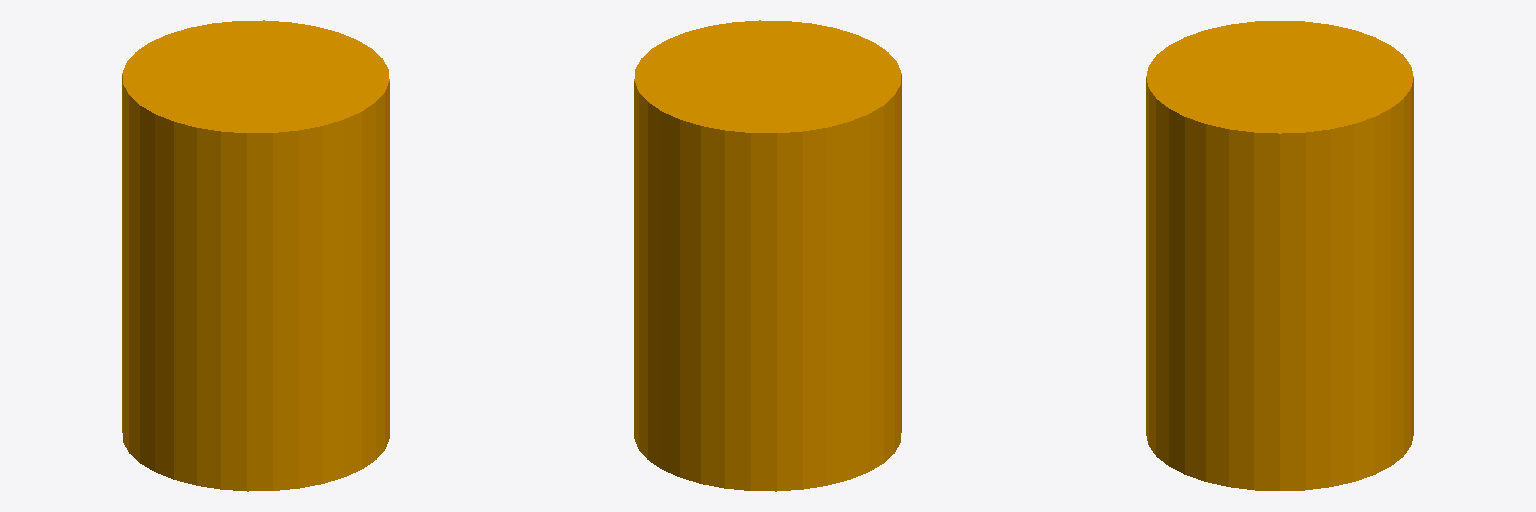
robot.urdf — roblog-maisels-barrel-simple:
<?xml version="1.0" ?>
<!-- =================================================================================== -->
<!-- |    This document was autogenerated by xacro from model.urdf.xml                 | -->
<!-- |    EDITING THIS FILE BY HAND IS NOT RECOMMENDED                                 | -->
<!-- =================================================================================== -->
<robot name="roblog-maisels-barrel-simple" xmlns:controller="http://playerstage.sourceforge.net/gazebo/xmlschema/#controller" xmlns:interface="http://playerstage.sourceforge.net/gazebo/xmlschema/#interface" xmlns:sensor="http://playerstage.sourceforge.net/gazebo/xmlschema/#sensor" xmlns:xacro="http://www.ros.org/wiki/xacro">
  <!-- Little helper macro to define the inertia matrix needed for links. -->
  <!-- Length is along the y-axis. -->
  <!-- Little helper macro to define the inertia matrix needed for links. -->
  <!-- Length is along the y-axis. -->
  <link name="link">
    <visual>
      <origin rpy="0 0 0" xyz="0 0 0"/>
      <geometry>
        <cylinder length="0.242" radius="0.082"/>
      </geometry>
      <material name="Gazebo/Orange"/>
    </visual>
    <collision>
      <origin rpy="0 0 0" xyz="0 0 0"/>
      <contact_coefficients mu="1.0"/>
      <geometry>
        <cylinder length="0.242" radius="0.082"/>
      </geometry>
      <surface>
        <friction>
          <ode>
            <mu>1</mu>
            <mu2>1</mu2>
          </ode>
        </friction>
      </surface>
    </collision>
    <inertial>
      <mass value="0.54"/>
      <inertia ixx="0.00354312" ixy="0" ixz="0" iyy="0.00354312" iyz="0" izz="0.00181548"/>
    </inertial>
  </link>
  <gazebo reference="link">
    <material>Gazebo/Orange</material>
    <dampingFactor>0.005</dampingFactor>
  </gazebo>
</robot>

--- Facts derived from the render (not from the file) ---
The picture shows the robot from 3 angles, left to right: view 1: azimuth 30°, elevation 25°; view 2: azimuth 150°, elevation 25°; view 3: azimuth 270°, elevation 25°; orthographic projection.
Model roblog-maisels-barrel-simple with 1 links and 0 joints (none), rooted at link, posed all joints at 0.
Visible links, largest first — view 1: link; view 2: link; view 3: link.
Boxes of the visible links, box(x1,y1,x2,y2) form: link: box(122, 20, 389, 491); link: box(634, 20, 901, 491); link: box(1146, 21, 1413, 490).
Bounding box of the posed robot: 0.164 × 0.164 × 0.242 m (x, y, z).
Geometry: primitives only (box / cylinder / sphere), no mesh files.
